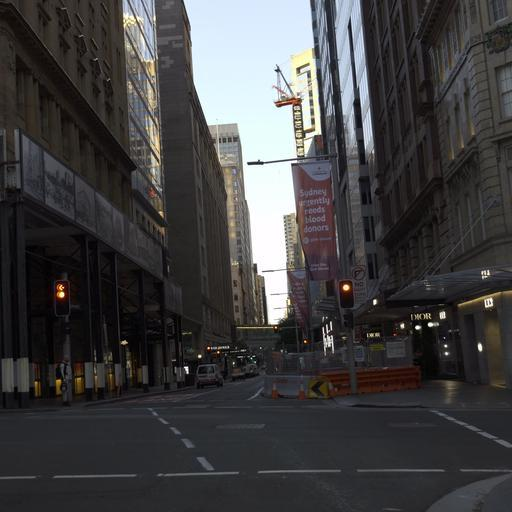Street light: (246, 151, 359, 393), (261, 265, 313, 351), (246, 152, 337, 166), (273, 305, 299, 352), (53, 278, 70, 317), (338, 278, 354, 308)
